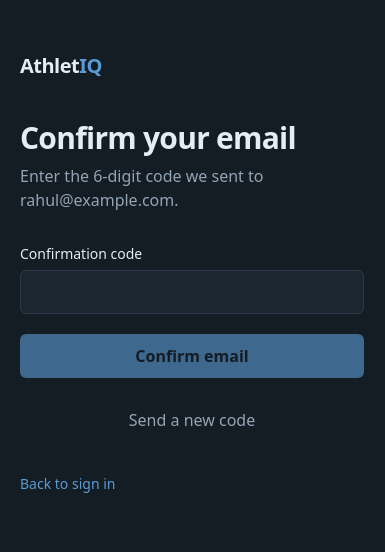
Scenario: ConfirmPage › resends the code
Click the button "Send a new code".
click(192, 420)  # box [20,398,364,442]
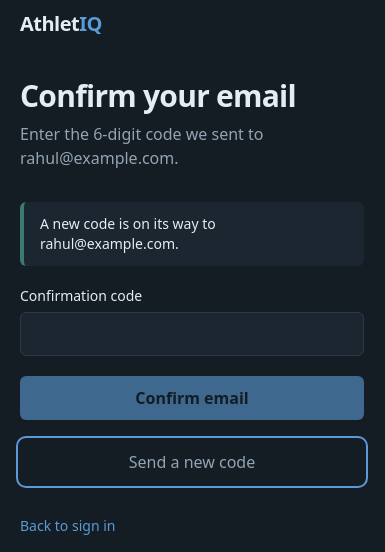
Result: the text "A new code is on its way to rahul@example.com." is shown at [20,202,364,266]
